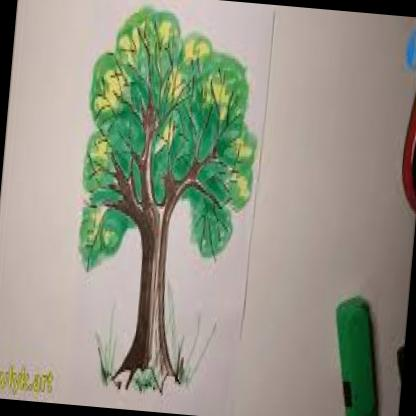branch_sharp: (103, 88, 230, 220)
crown_cloud: (71, 0, 270, 286)
root_only: (102, 337, 186, 401)
trunk_bark: (133, 248, 174, 326)
